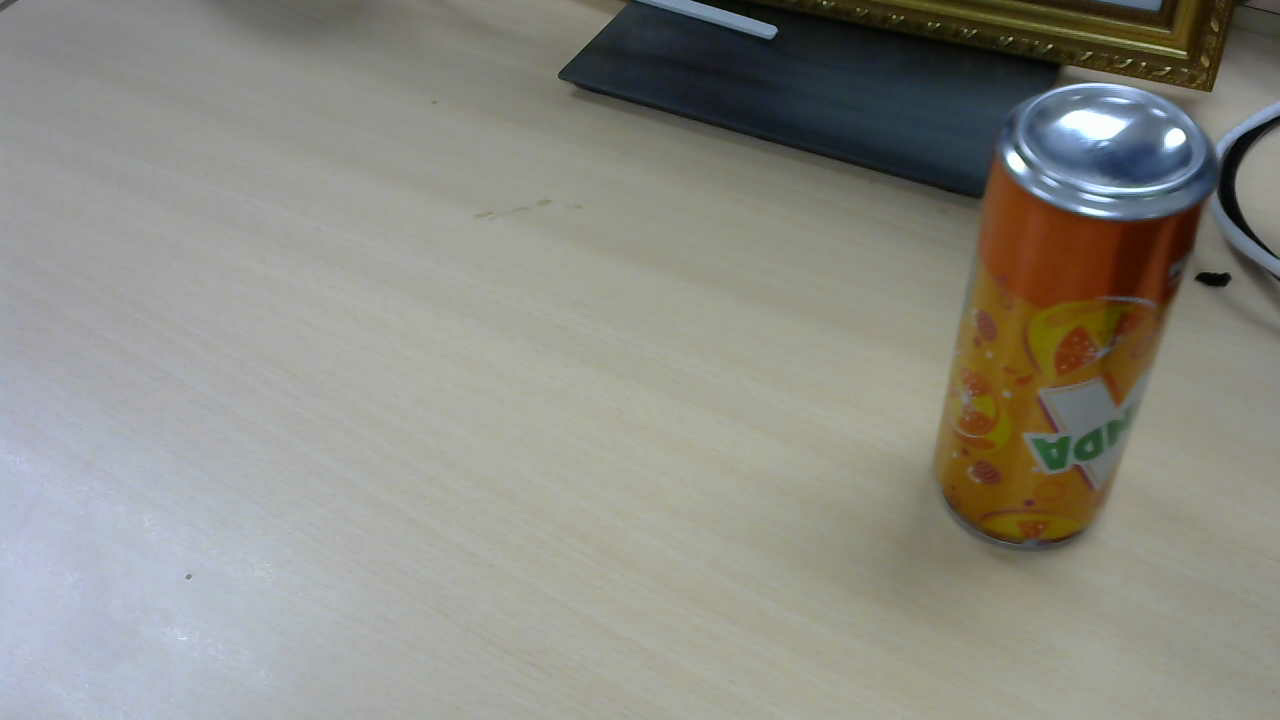Mirinda: (933, 84, 1221, 550)
